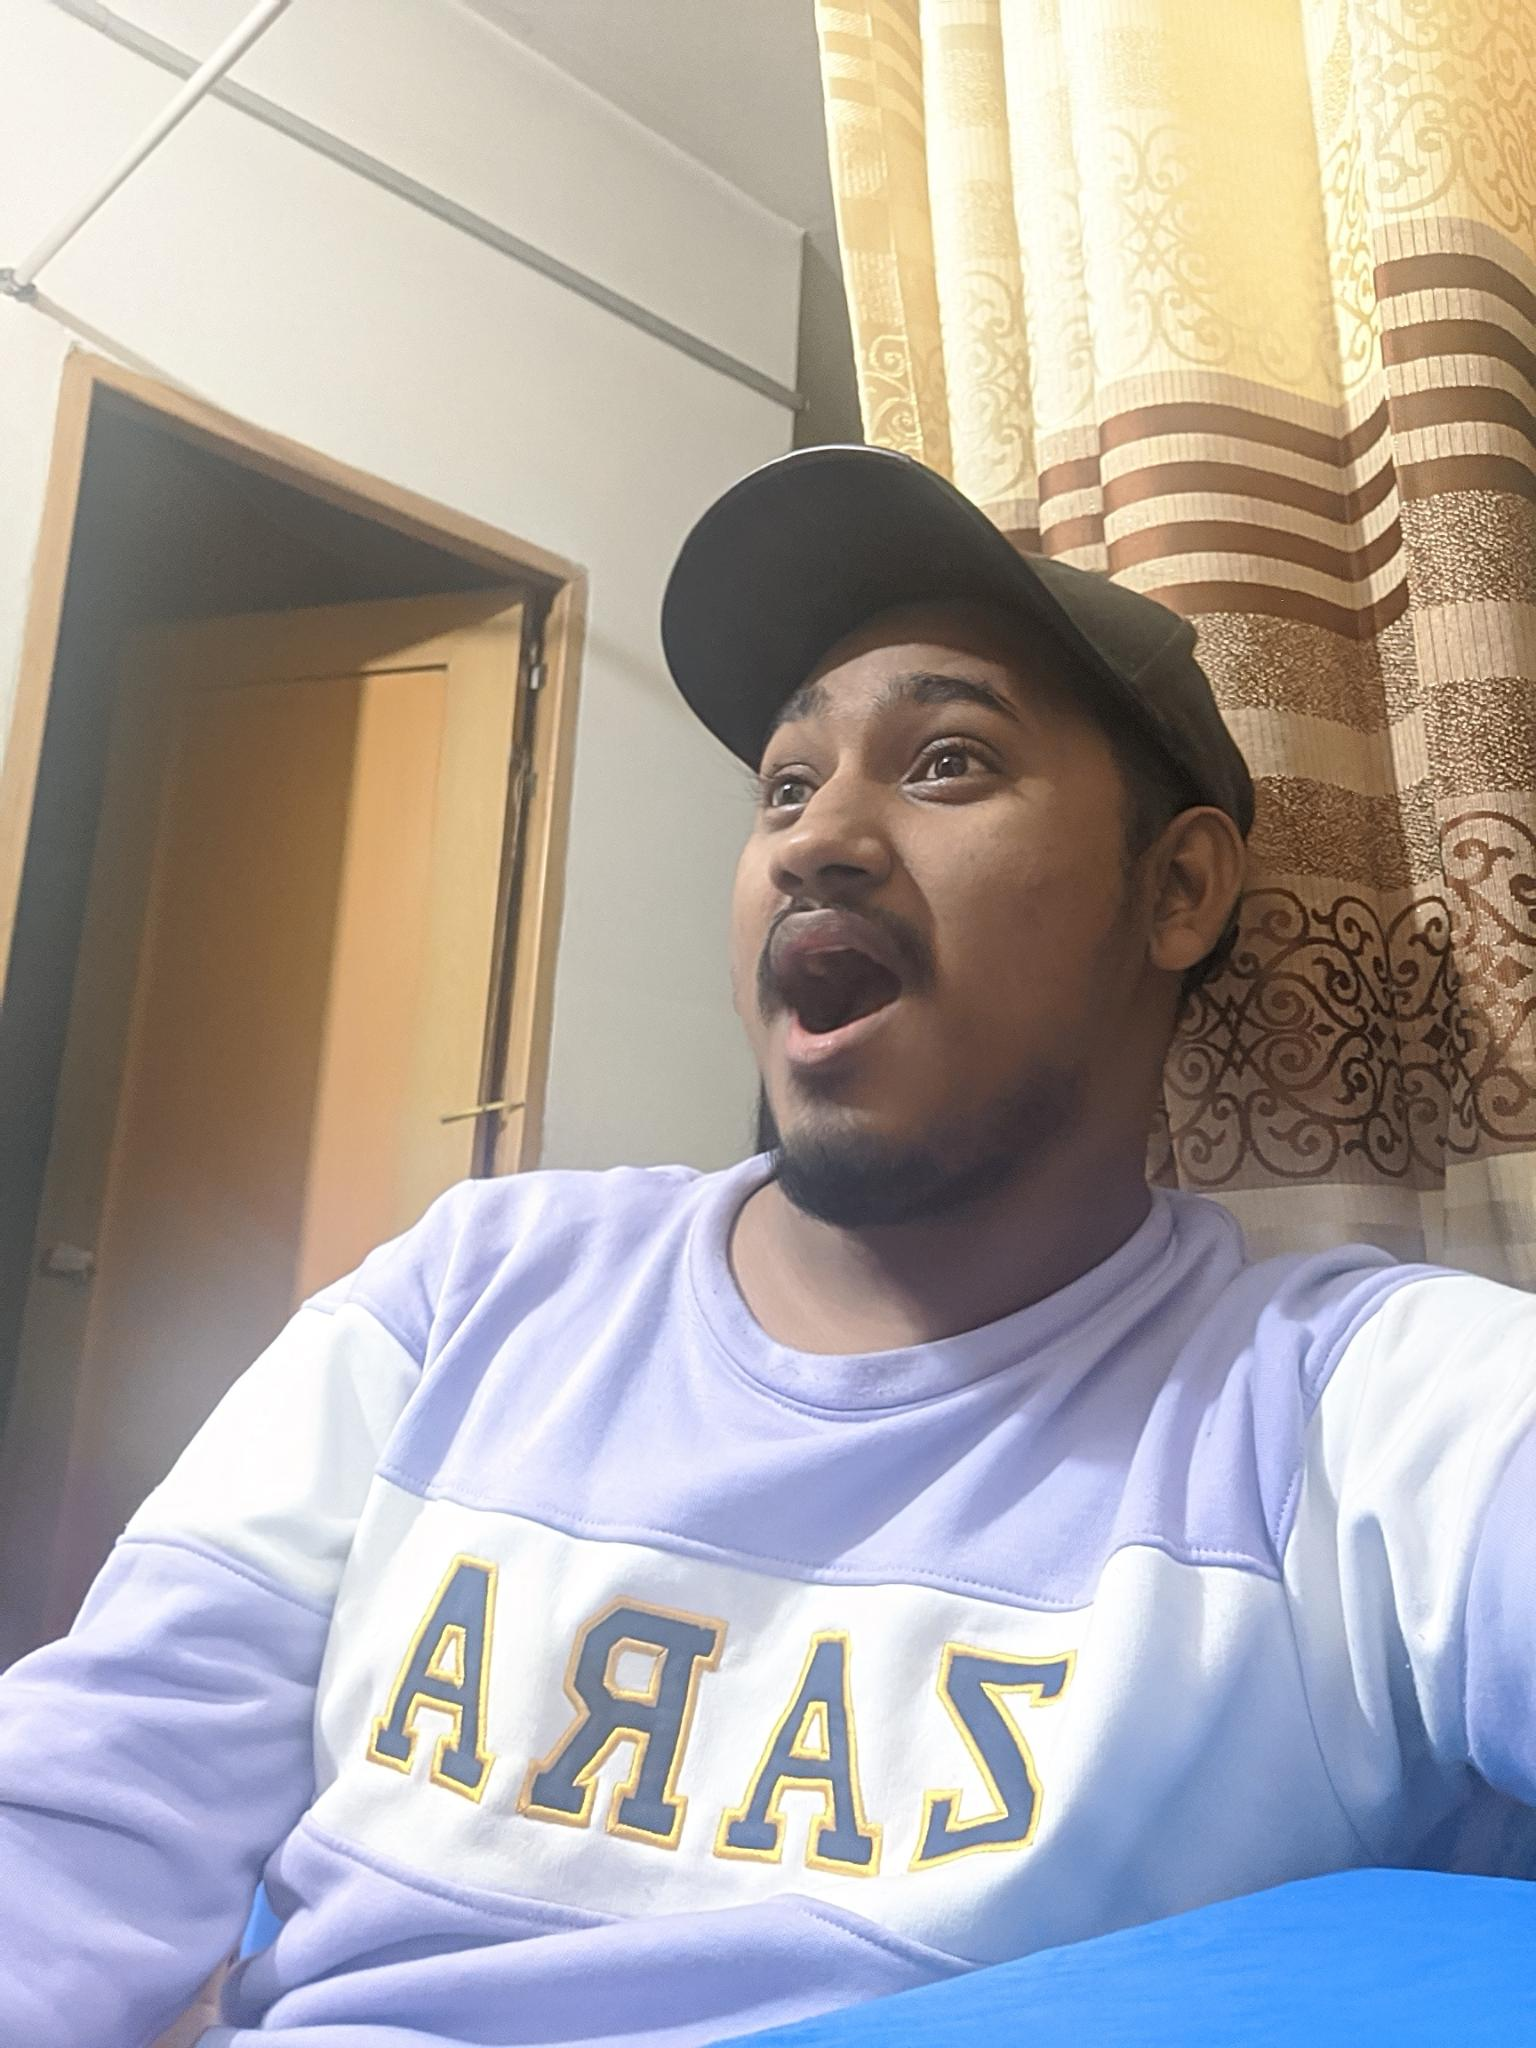Surprise: (712, 619, 1094, 1159)
